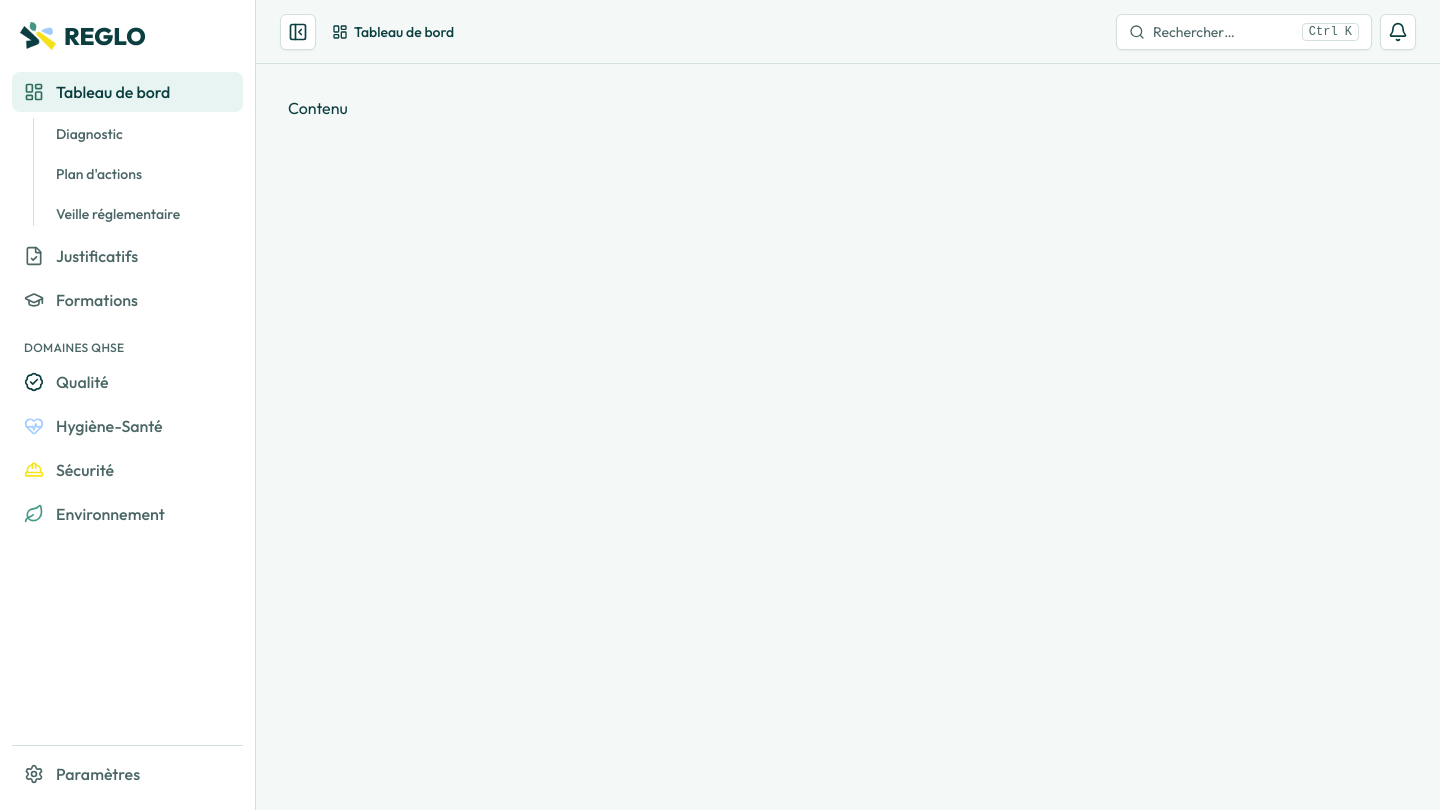
Scenario: AppShell › collapses the desktop sidebar and remembers it
Click the button named "Replier le menu" at (298, 32), box [280,14,316,50]
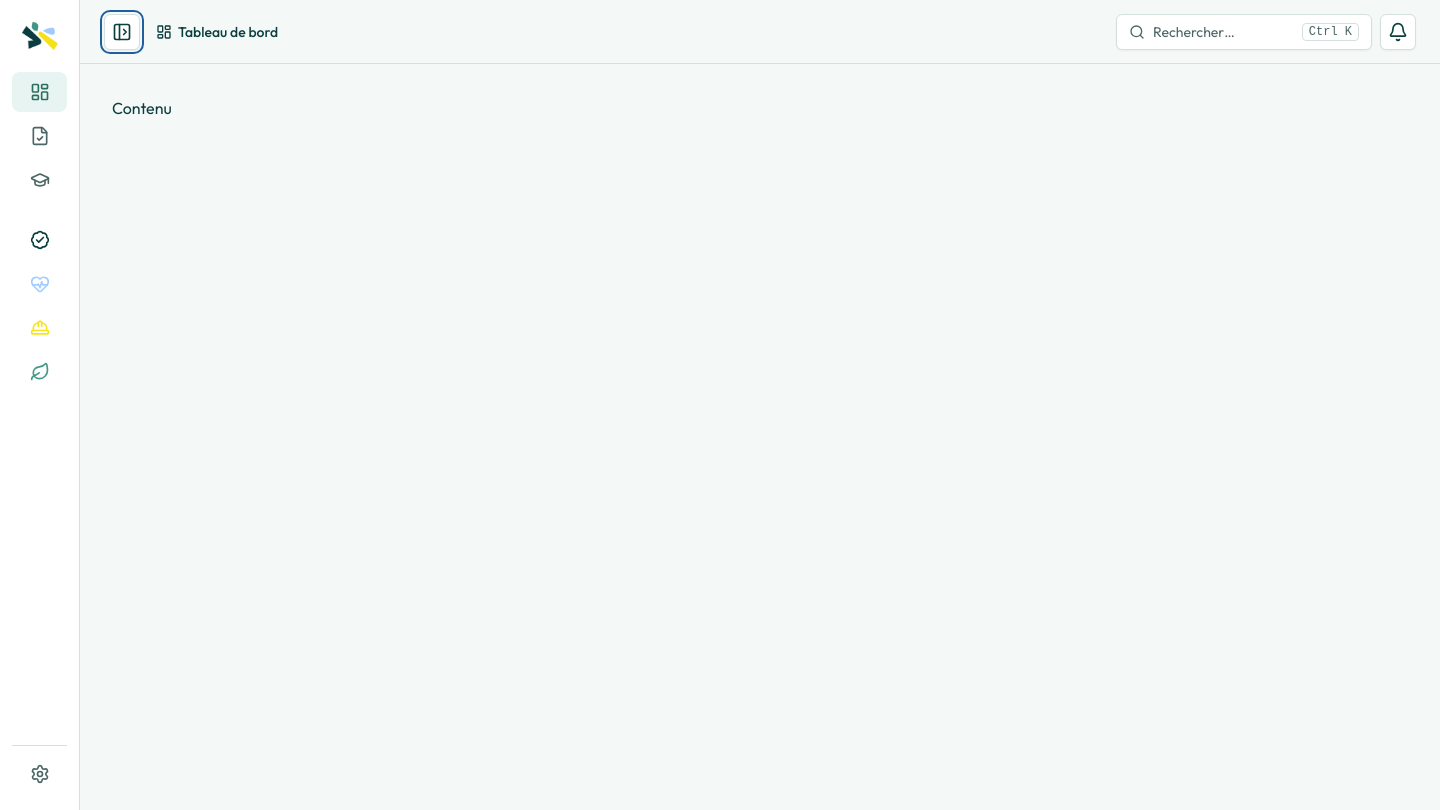
Expected: the button named "Déplier le menu" is collapsed, [104,14,140,50]
